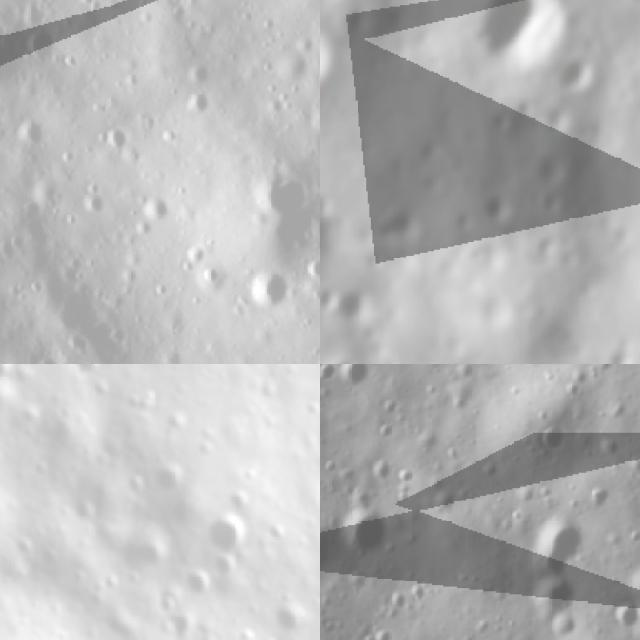crater: (229, 145, 320, 276), (451, 0, 573, 76), (0, 0, 54, 112), (241, 260, 304, 323), (367, 200, 438, 250), (547, 48, 601, 107), (21, 15, 73, 74), (86, 111, 139, 167), (530, 520, 584, 574), (200, 514, 253, 565), (530, 574, 577, 630), (5, 108, 57, 158), (132, 185, 182, 236), (344, 507, 389, 555), (320, 7, 345, 87), (528, 417, 579, 456), (479, 184, 523, 228), (185, 49, 228, 91), (187, 86, 228, 128), (152, 460, 193, 500), (296, 79, 320, 145), (273, 598, 310, 636), (182, 565, 218, 603), (583, 476, 614, 514), (334, 364, 376, 391), (611, 595, 639, 634), (225, 485, 257, 519), (24, 342, 72, 364), (320, 275, 343, 317), (320, 189, 343, 226), (212, 552, 238, 584), (167, 614, 198, 640), (625, 561, 640, 608), (156, 590, 181, 618), (267, 519, 292, 546), (71, 502, 95, 529), (11, 536, 35, 560), (324, 353, 373, 364), (66, 364, 106, 374), (320, 364, 337, 383), (0, 364, 12, 382)
